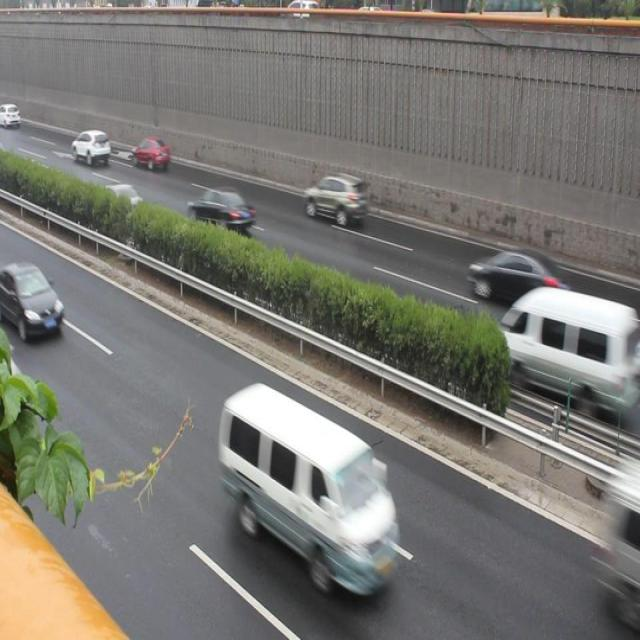car: (467, 242, 567, 312), (1, 258, 68, 345), (299, 169, 367, 230), (187, 182, 256, 241), (95, 174, 146, 224), (129, 135, 170, 178), (70, 128, 115, 166)
truck: (215, 379, 390, 601), (493, 289, 640, 417), (585, 456, 640, 613)
